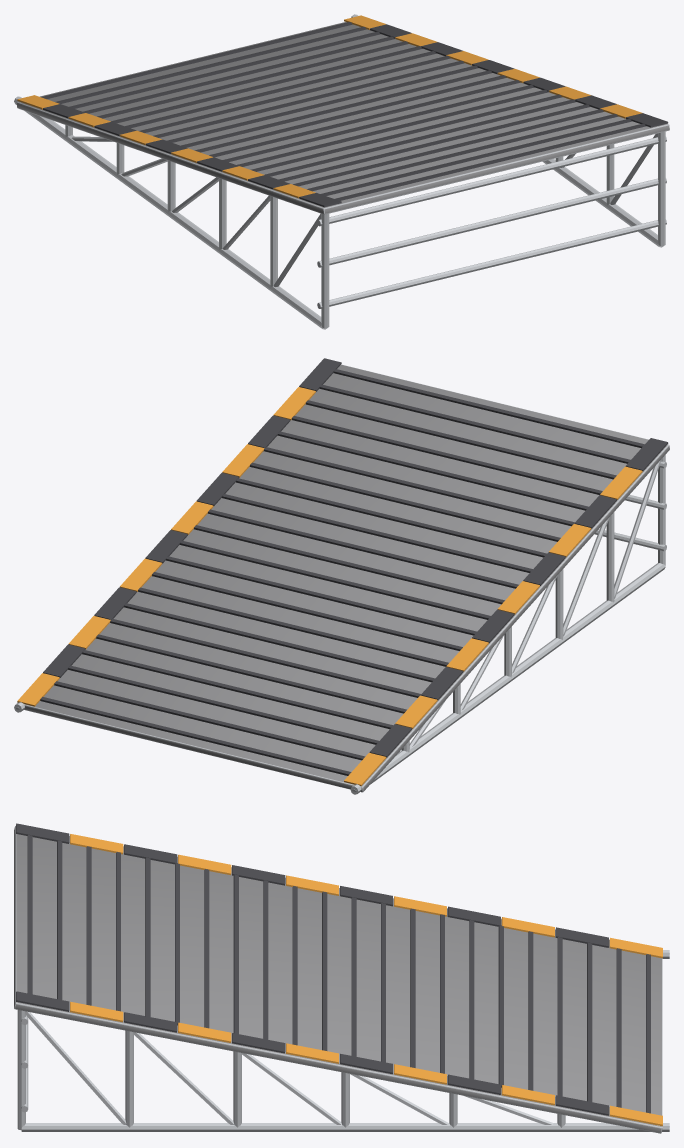
The model's file is Ramp.fbx.
The picture shows the model from 3 angles, top to bottom: view 1: azimuth 30°, elevation 25°; view 2: azimuth 150°, elevation 25°; view 3: azimuth 270°, elevation 25°; orthographic projection. The views are drawn at different scales.
Parts seen in each view (by area): view 1: Ramp; view 2: Ramp; view 3: Ramp.
Part boxes in pixels (left/top/right/bottom): Ramp: left=14, top=14, right=669, bottom=329; Ramp: left=14, top=358, right=669, bottom=794; Ramp: left=14, top=823, right=669, bottom=1133.
Size of the model in its own units: 7 by 2.45 by 10.9.
